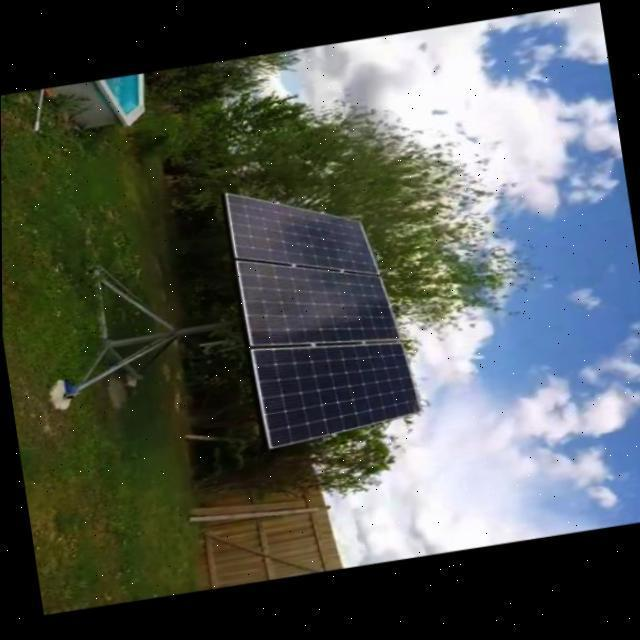Normal Solar Panel: (232, 240, 398, 364), (250, 328, 418, 450), (222, 172, 378, 296)
